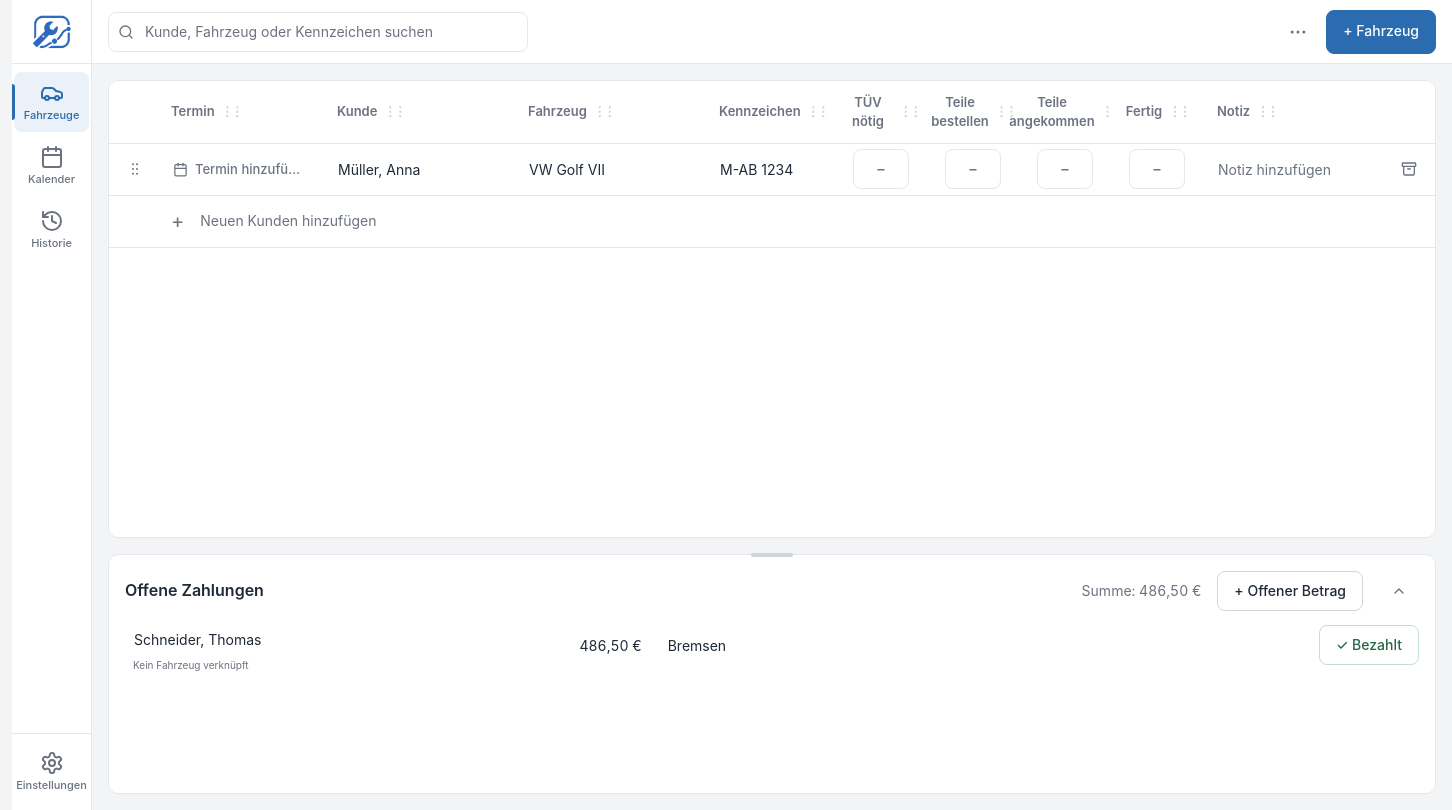
Test: Versteckter Bereich: Long-Press am Logo › schließt den Bereich mit einem Klick auf das X
The width and height of the screenshot is (1452, 810).
Expected: the field showing "Müller, Anna" is shown, [329,149,508,189]
Press the mouse on the element with class "app-logo" at (52, 32), box [32,12,72,52]
Wait 3000 ms
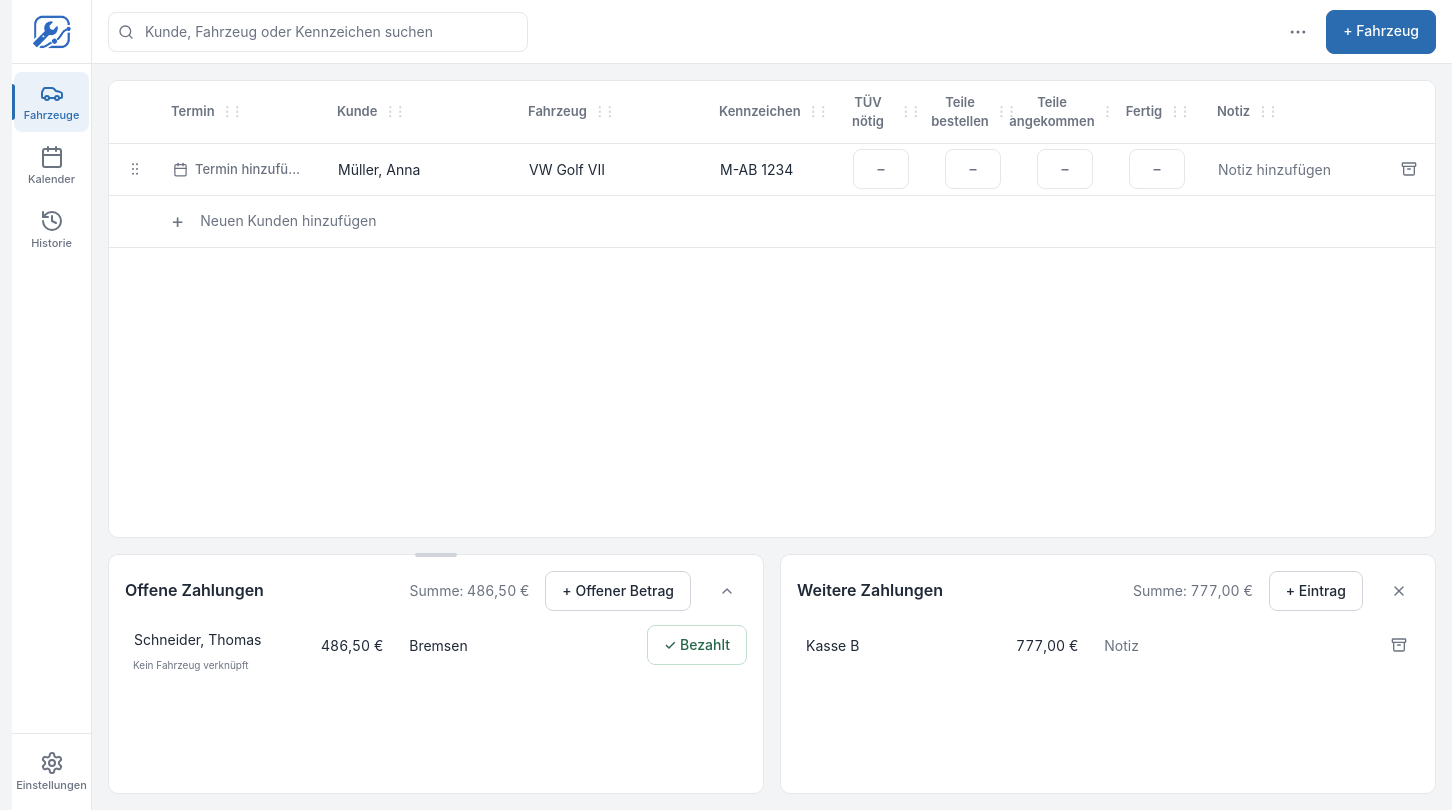
Expected: the element "Weitere Zahlungen" is shown, [780,554,1436,794]
Click the button named "Versteckten Bereich schließen".
click(1399, 591)  # box [1379,571,1419,611]
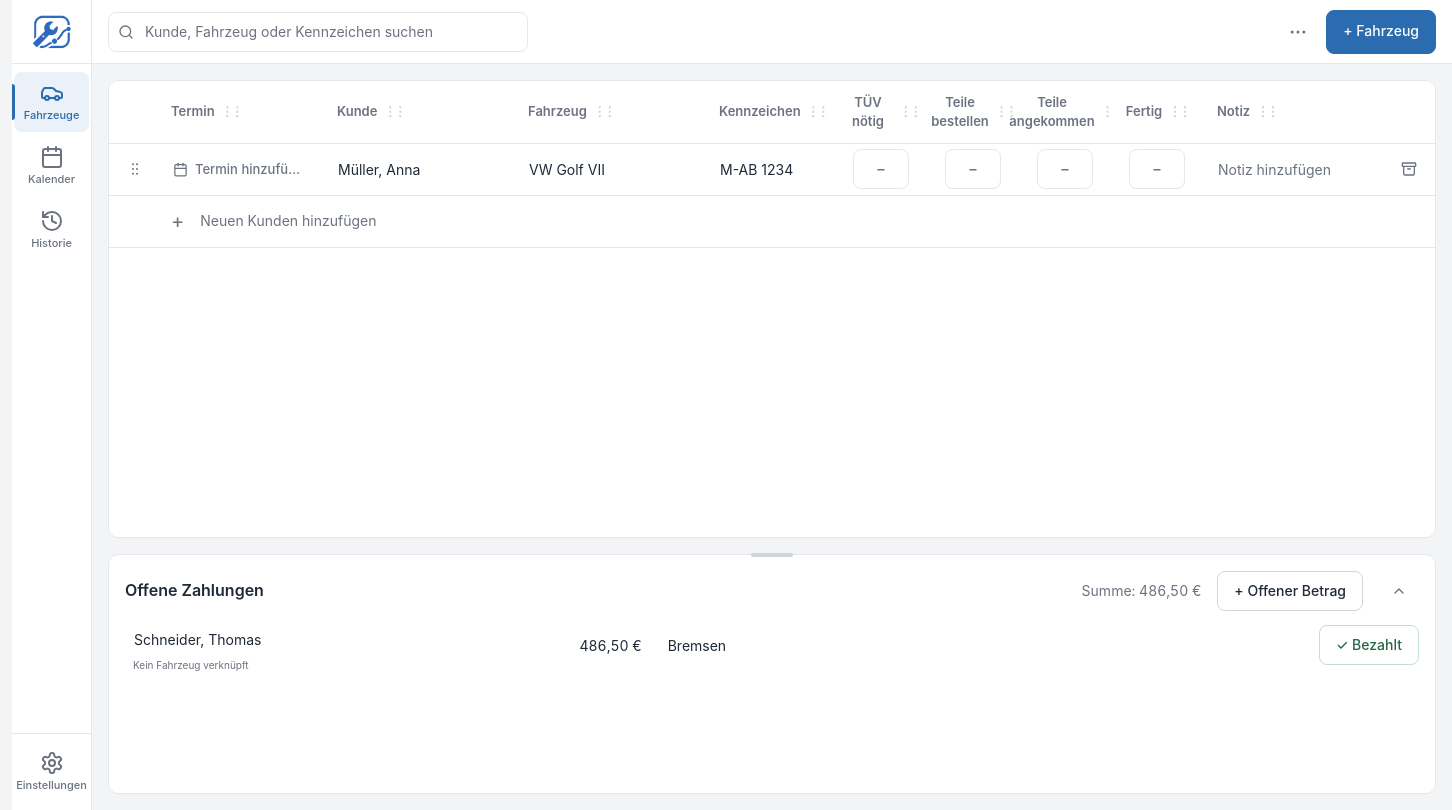
Expected: the element "Offene Zahlungen" is shown, [108,554,1436,794]
Expected: the heading "Weitere Zahlungen" is gone
